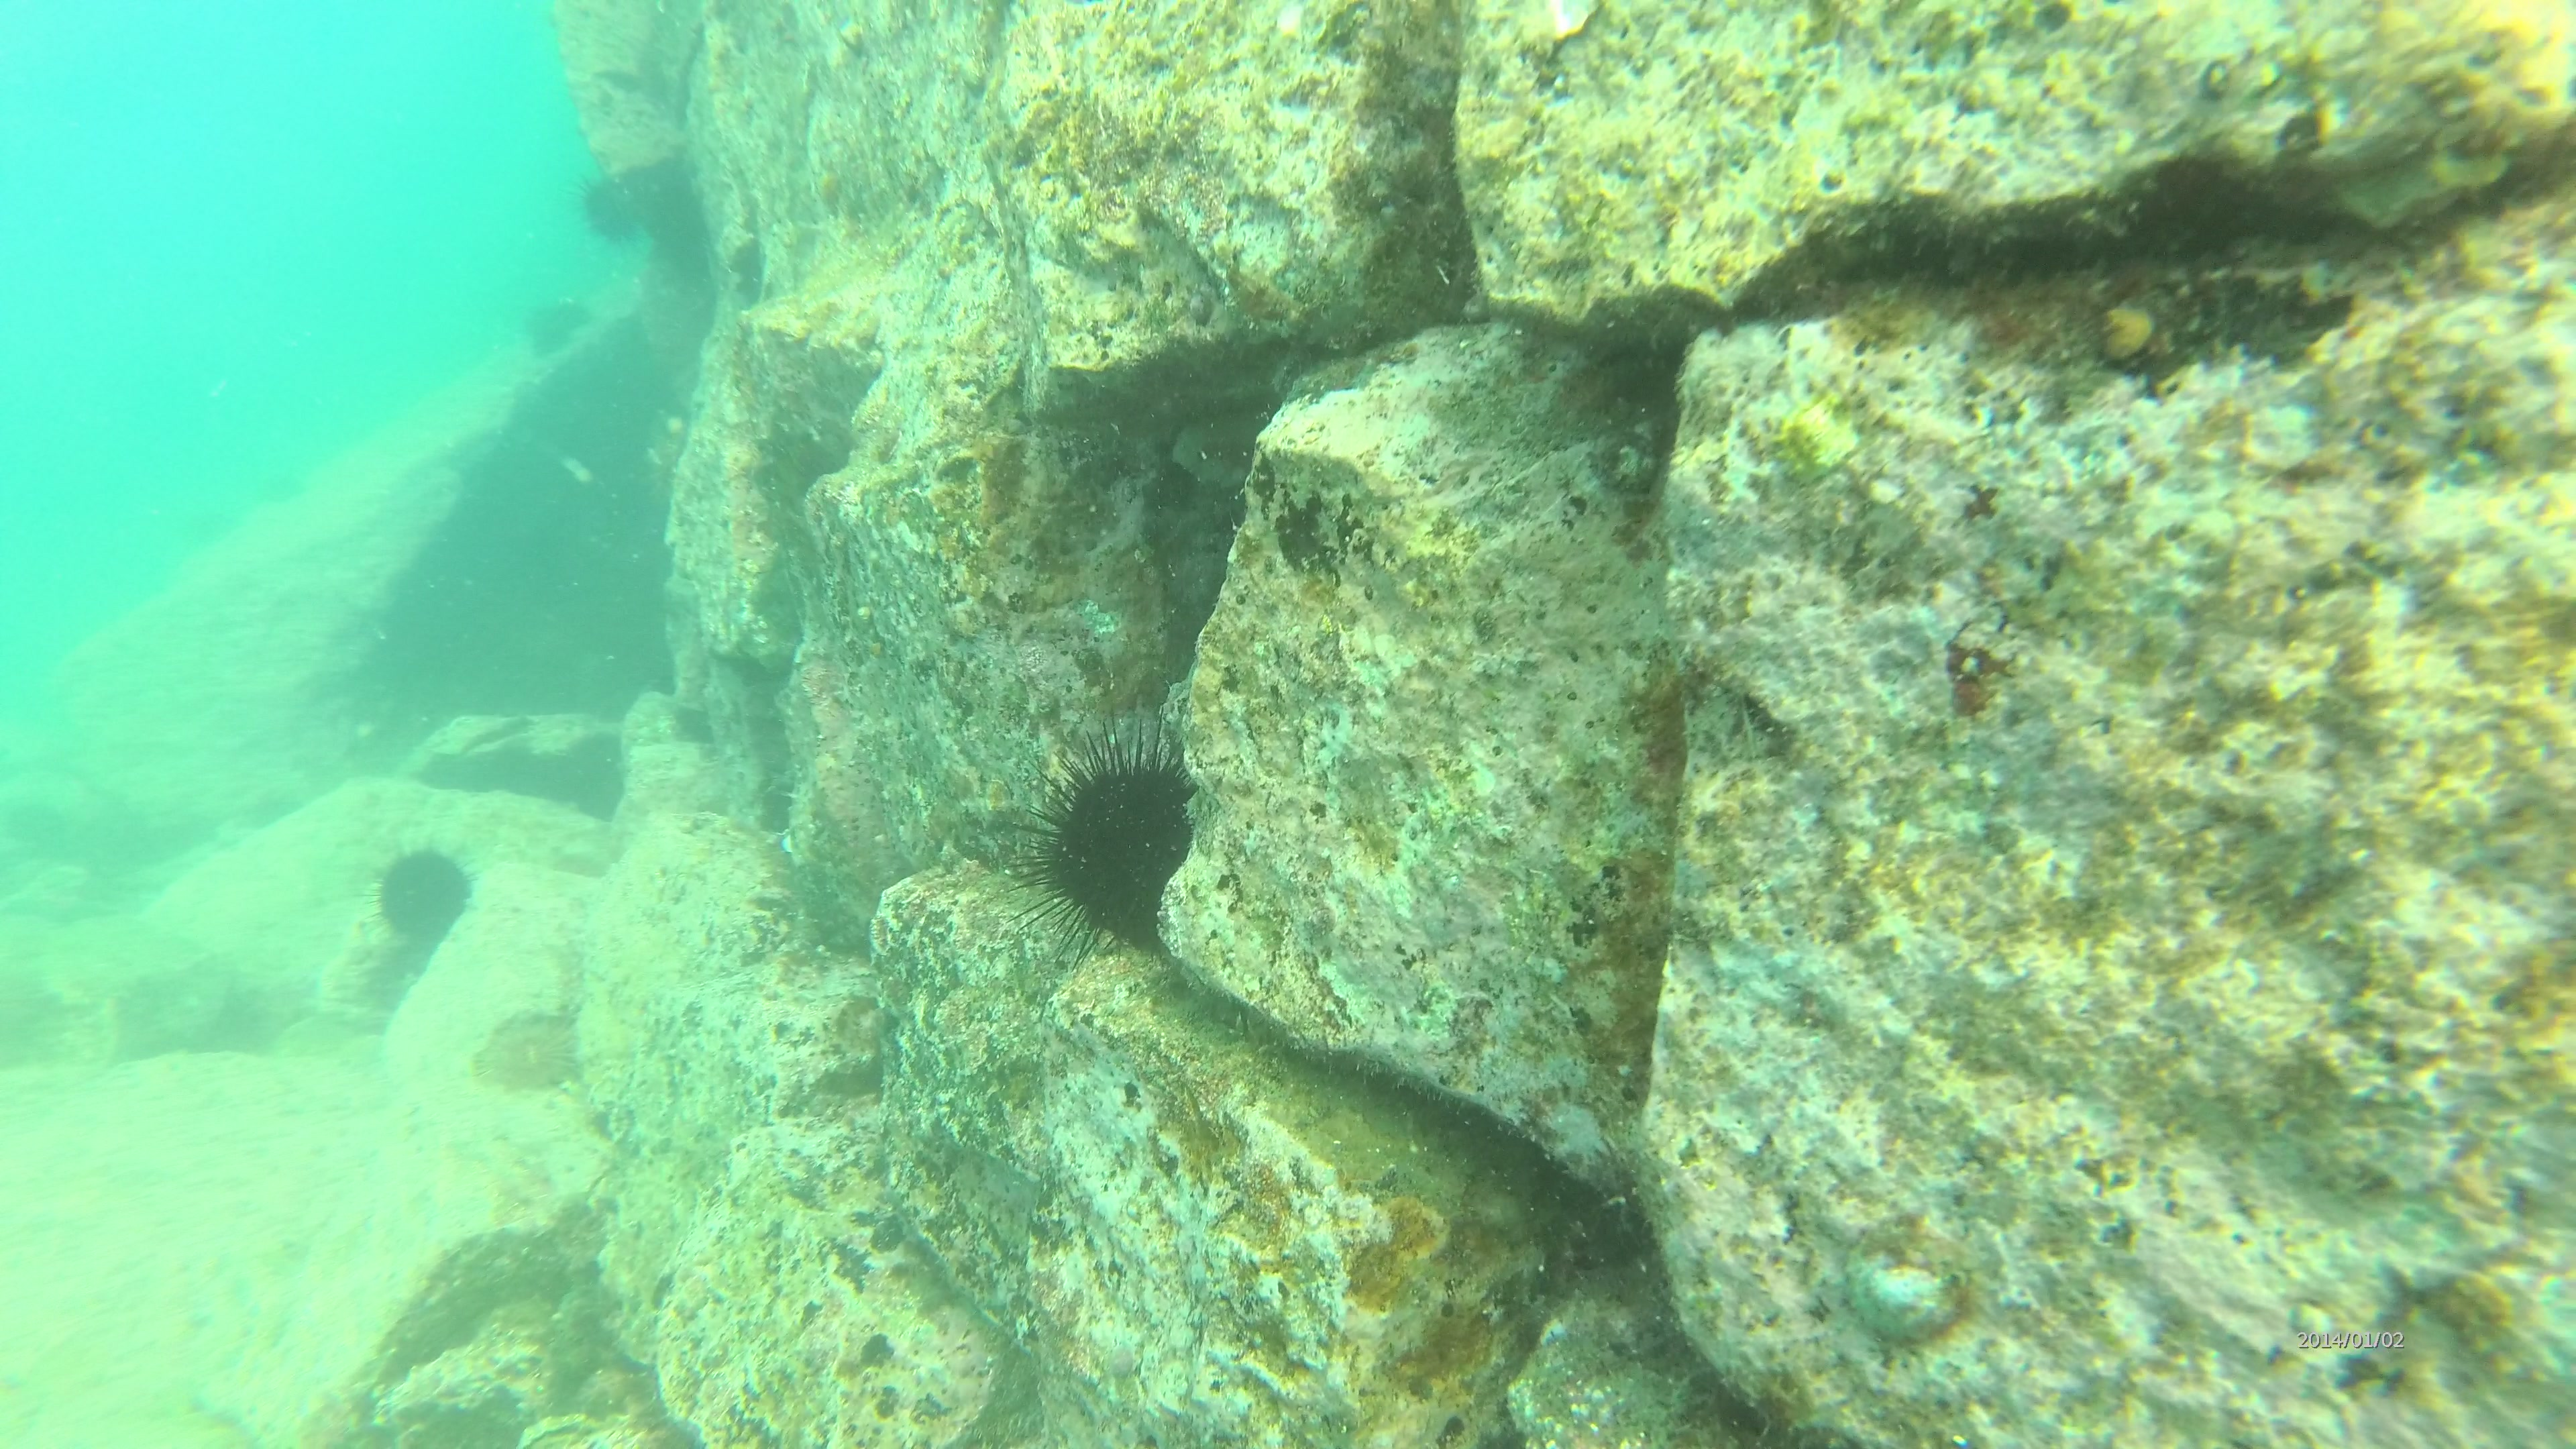echinus: (1021, 732, 1212, 961), (372, 846, 479, 941), (571, 172, 646, 249), (531, 299, 600, 361)
scallop: (1844, 1238, 1966, 1348)
